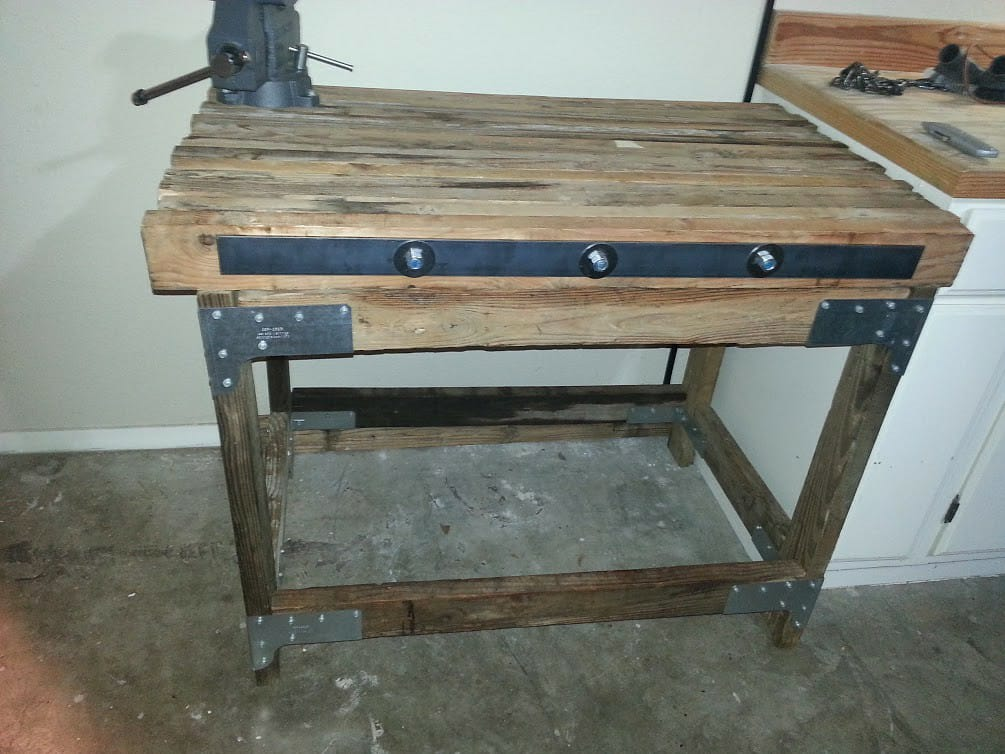Racks: (154, 74, 988, 686)
